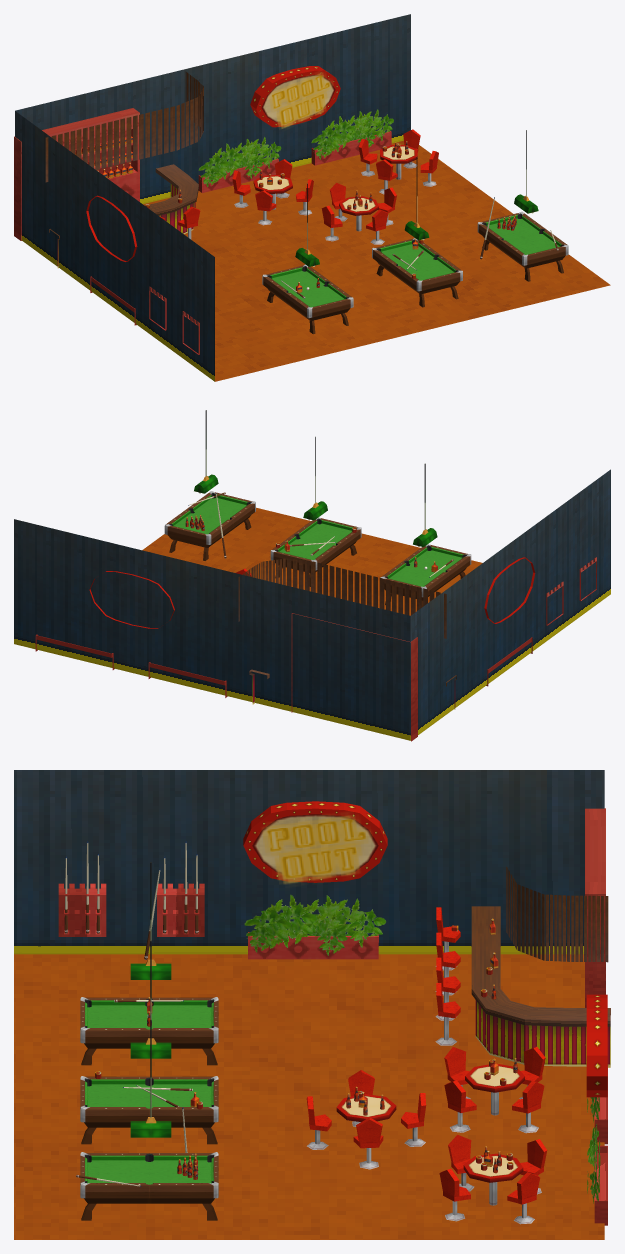
Rendered from bar.glb.
3 views of the same model, one above another, from view 1: azimuth 30°, elevation 25°; view 2: azimuth 150°, elevation 25°; view 3: azimuth 270°, elevation 25° (orthographic). The views are drawn at different scales.
Parts seen in each view (by area): view 1: ParedesSuelo, DecoracionBar, Neon, Estanteria, MesaBillar, MesaBillar.003, MesaBillar.001, Maceta.002, Maceta.001, BarraBar, SetLamparas, SillasMesa.001 (+9 smaller); view 2: ParedesSuelo, DecoracionBar, MesaBillar.001, MesaBillar.003, MesaBillar, SetLamparas, Estanteria, Maceta.002; view 3: ParedesSuelo, Neon.001, BarraBar, Maceta, MesaBillar.001, MesaBillar, MesaBillar.003, DecoracionBar, Estanteria, SetLamparas, CajonPalos, Neon (+13 smaller).
Boxes of the visible parts, left/top/right/bottom form: ParedesSuelo: left=15, top=14, right=610, bottom=381; DecoracionBar: left=45, top=71, right=203, bottom=182; Neon: left=250, top=66, right=340, bottom=128; Estanteria: left=14, top=108, right=139, bottom=240; MesaBillar: left=262, top=264, right=353, bottom=334; MesaBillar.003: left=372, top=238, right=462, bottom=307; MesaBillar.001: left=477, top=211, right=568, bottom=281; Maceta.002: left=311, top=109, right=393, bottom=165; Maceta.001: left=198, top=137, right=281, bottom=192; BarraBar: left=49, top=164, right=198, bottom=268; SetLamparas: left=295, top=130, right=538, bottom=266; SillasMesa.001: left=330, top=183, right=388, bottom=244; ParedesSuelo: left=14, top=469, right=610, bottom=740; DecoracionBar: left=238, top=558, right=446, bottom=638; MesaBillar.001: left=164, top=491, right=255, bottom=560; MesaBillar.003: left=270, top=517, right=361, bottom=586; MesaBillar: left=380, top=544, right=471, bottom=607; SetLamparas: left=194, top=410, right=437, bottom=547; Estanteria: left=291, top=613, right=417, bottom=741; Maceta.002: left=35, top=634, right=114, bottom=669; ParedesSuelo: left=14, top=770, right=604, bottom=1239; Neon.001: left=243, top=801, right=387, bottom=884; BarraBar: left=471, top=906, right=610, bottom=1067; Maceta: left=244, top=894, right=386, bottom=959; MesaBillar.001: left=80, top=1152, right=218, bottom=1220; MesaBillar: left=80, top=997, right=218, bottom=1065; MesaBillar.003: left=80, top=1076, right=218, bottom=1144; DecoracionBar: left=506, top=866, right=608, bottom=962; Estanteria: left=585, top=808, right=605, bottom=1007; SetLamparas: left=130, top=862, right=171, bottom=1137; CajonPalos: left=58, top=883, right=106, bottom=936; Neon: left=586, top=994, right=607, bottom=1097.
Size of the model in its own units: 28.61 by 9.01 by 25.05.
Materials: 14 (14 with a texture image).
